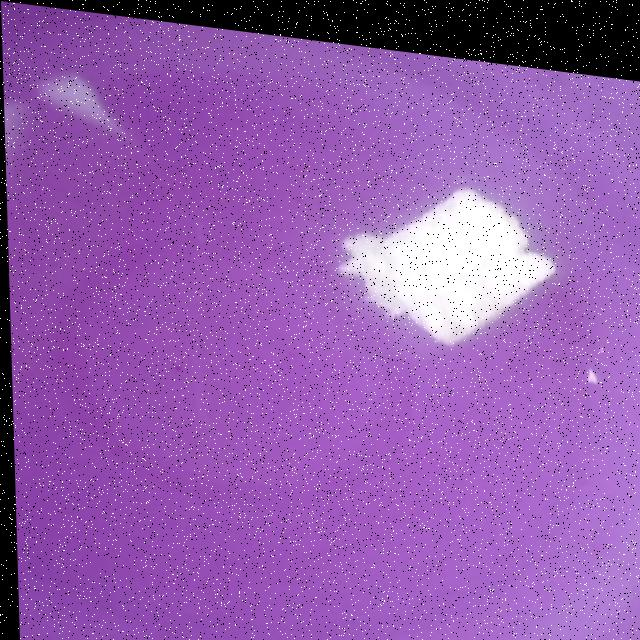thermocoal: (313, 141, 595, 367)
